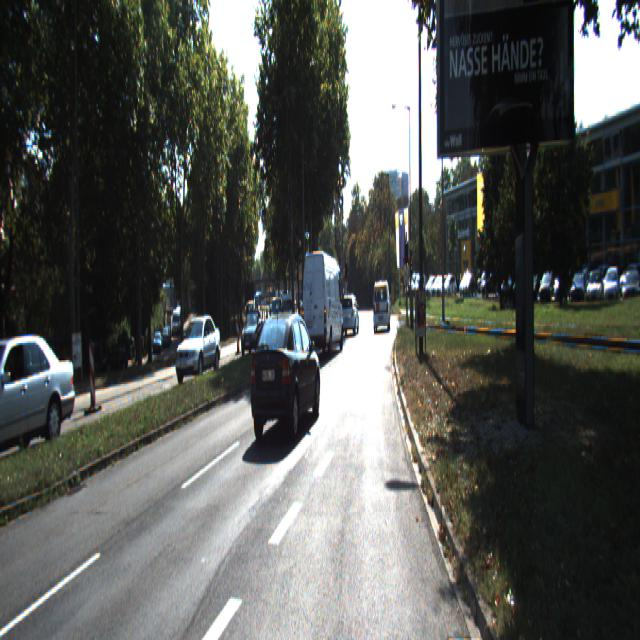Car: (0, 331, 79, 468), (248, 306, 322, 444), (301, 243, 344, 358), (175, 313, 220, 387), (307, 269, 342, 323), (241, 309, 265, 355), (373, 281, 390, 332), (341, 293, 359, 338)
